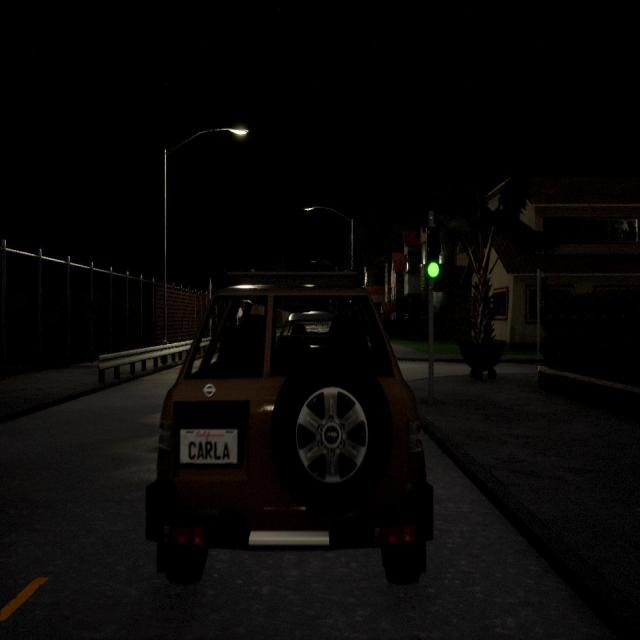Traffic_Signs: (236, 307, 243, 319)
Vehicle: (146, 271, 432, 583), (276, 311, 334, 348)
traffic_light: (425, 225, 440, 279), (539, 276, 547, 304)
